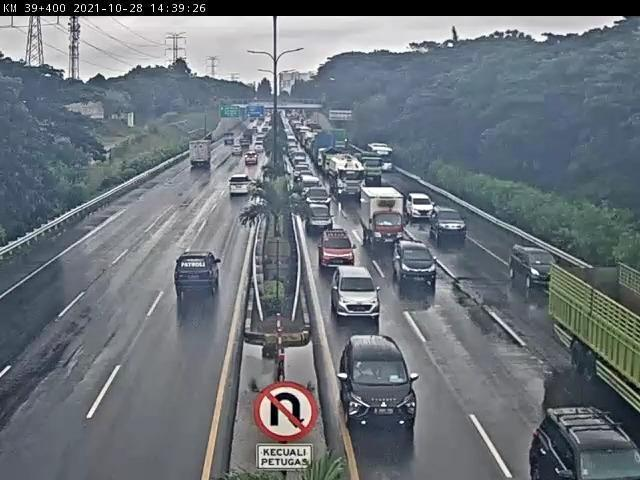car: (341, 331, 426, 440), (513, 409, 640, 480), (166, 242, 228, 310), (387, 237, 452, 301), (499, 237, 557, 298), (328, 261, 383, 322), (425, 201, 473, 250), (317, 228, 361, 271), (405, 190, 438, 226), (225, 171, 258, 203), (237, 150, 263, 174), (252, 139, 270, 157), (227, 147, 247, 161), (233, 422, 234, 428)
truck: (545, 262, 640, 408), (355, 185, 409, 245), (330, 152, 369, 203), (182, 136, 218, 178)
